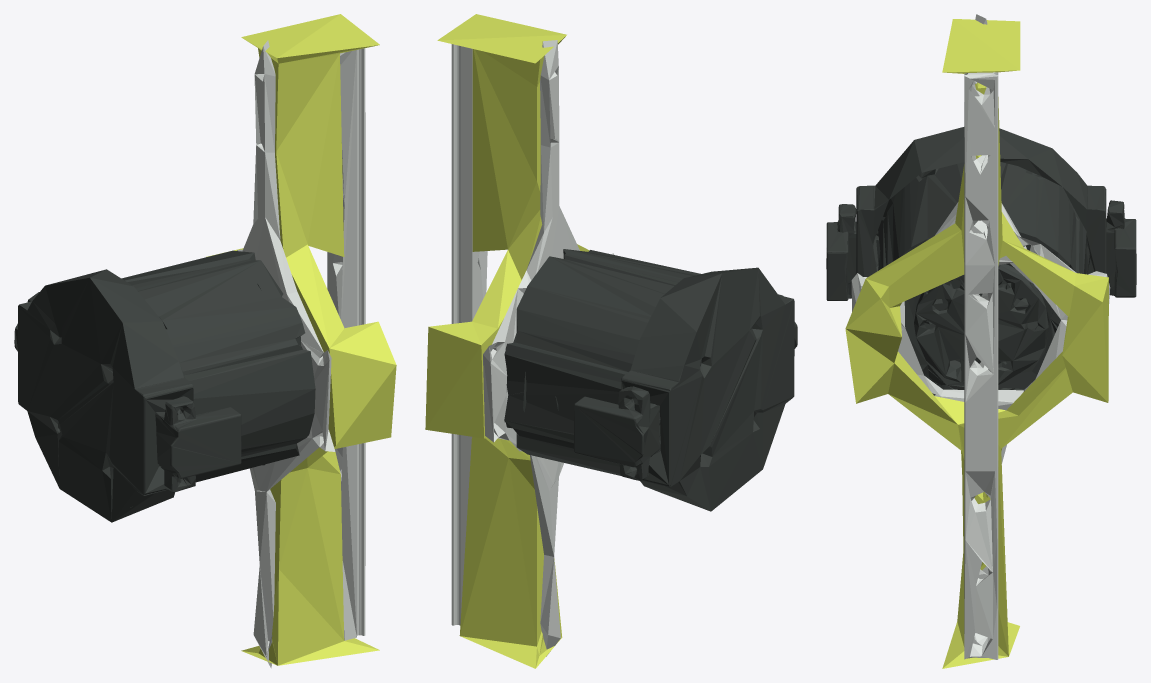
Rendered from end_link.glb.
3 renders of one model, left to right at view 1: azimuth 30°, elevation 25°; view 2: azimuth 150°, elevation 25°; view 3: azimuth 270°, elevation 25°, orthographic.
Parts seen in each view (by area): view 1: motor_7, pla7_green, cnc7; view 2: motor_7, pla7_green, cnc7; view 3: motor_7, pla7_green, cnc7.
Boxes of the visible parts, x1,y1,x2,y2 form: motor_7: [14, 250, 315, 522]; pla7_green: [206, 14, 396, 665]; cnc7: [237, 40, 365, 668]; motor_7: [504, 249, 797, 511]; pla7_green: [425, 14, 589, 668]; cnc7: [451, 40, 614, 656]; motor_7: [826, 127, 1136, 395]; pla7_green: [845, 19, 1108, 668]; cnc7: [851, 14, 1110, 659].
Size of the model in its own units: 0.084 by 0.1799 by 0.0819.
